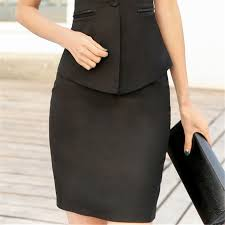F_tailored skirt: (41, 63, 173, 225)
